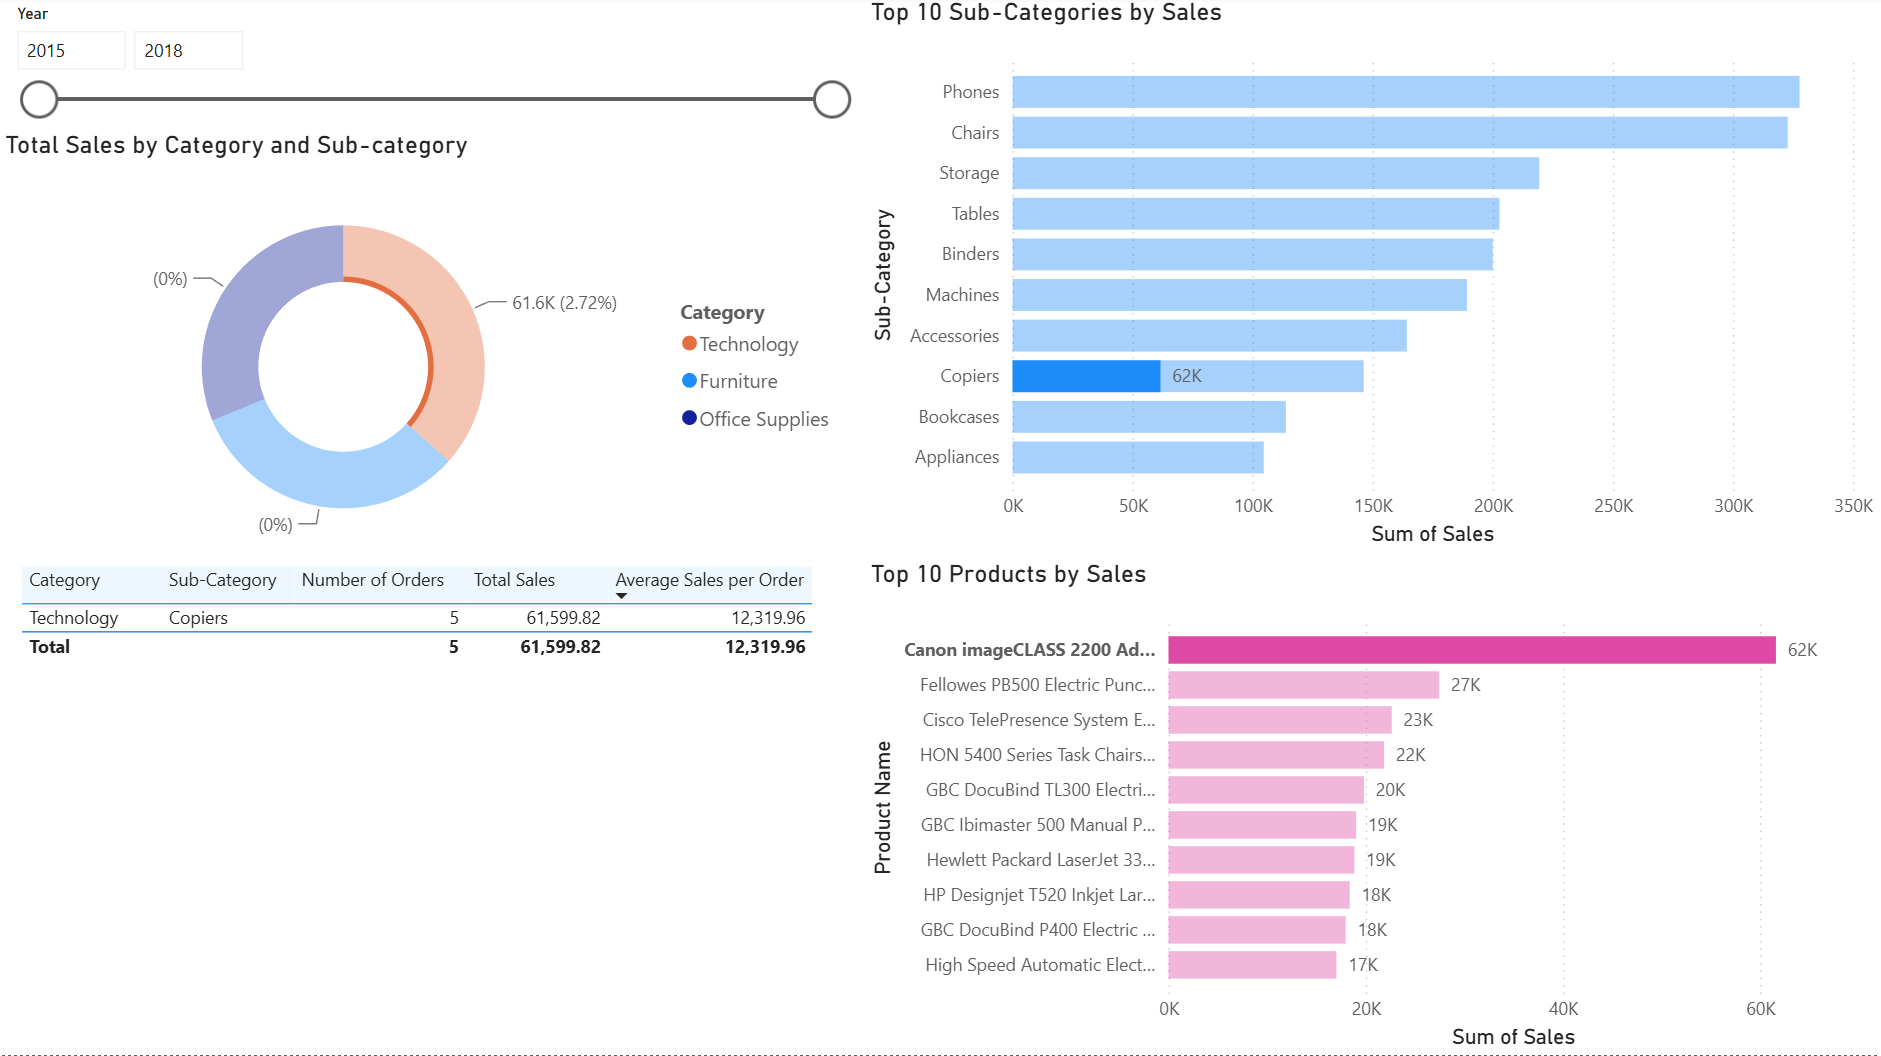

The dashboard page shown, as its layout file describes it:
{"tool":"powerbi","page":{"name":"Product Performance","canvas":[1280,720],"ordinal":1},"visuals":[{"type":"donutChart","title":"Total Sales by Category and Sub-category","fields":{"Category":["superstore_sales_dataset.Category Hierarchy.Category","superstore_sales_dataset.Category Hierarchy.Sub-Category","superstore_sales_dataset.Category Hierarchy.Product Name"],"Y":["Sum(superstore_sales_dataset.Sales)"]},"box":[0,90.2,578.7,292.3],"z":0},{"type":"clusteredBarChart","title":"Top 10 Sub-Categories by Sales","fields":{"Y":["Sum(superstore_sales_dataset.Sales)"],"Category":["superstore_sales_dataset.Category Hierarchy.Sub-Category"]},"box":[588.6,0,691.2,378],"z":1000},{"type":"clusteredBarChart","title":"Top 10 Products by Sales","fields":{"Y":["Sum(superstore_sales_dataset.Sales)"],"Category":["superstore_sales_dataset.Product Name"]},"box":[588.6,382.6,691.2,337.4],"z":2000},{"type":"tableEx","fields":{"Values":["superstore_sales_dataset.Category Hierarchy.Category","superstore_sales_dataset.Category Hierarchy.Sub-Category","superstore_sales_dataset.Order ID","Sum(superstore_sales_dataset.Sales)","superstore_sales_dataset.Average Sales per Order"]},"box":[9.8,382.6,578.7,337.4],"z":3000},{"type":"slicer","fields":{"Values":["superstore_sales_dataset.Order Date.Variation.Date Hierarchy.Year"]},"box":[0,0,588.6,90.2],"z":4000}]}

Visuals, with their boxes in screenshot pixels (x1, y1, x2, y2), scaled from the page's 1280x720 canvas onto the 1881x1056 screenshot:
"Total Sales by Category and Sub-category" donutChart: Rect(0, 132, 850, 561)
"Top 10 Sub-Categories by Sales" clusteredBarChart: Rect(865, 0, 1880, 554)
"Top 10 Products by Sales" clusteredBarChart: Rect(865, 561, 1880, 1055)
tableEx - superstore_sales_dataset.Category Hierarchy.Category x superstore_sales_dataset.Category Hierarchy.Sub-Category: Rect(14, 561, 865, 1055)
slicer - superstore_sales_dataset.Order Date.Variation.Date Hierarchy.Year: Rect(0, 0, 865, 132)
